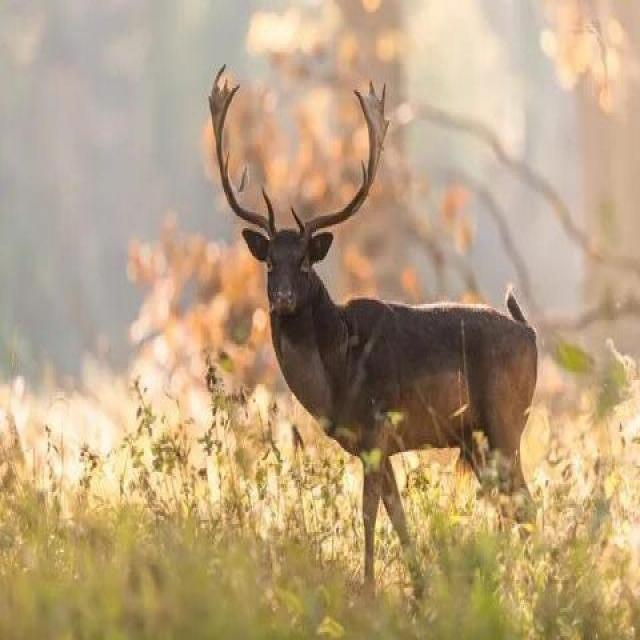deer: (209, 105, 577, 490)
